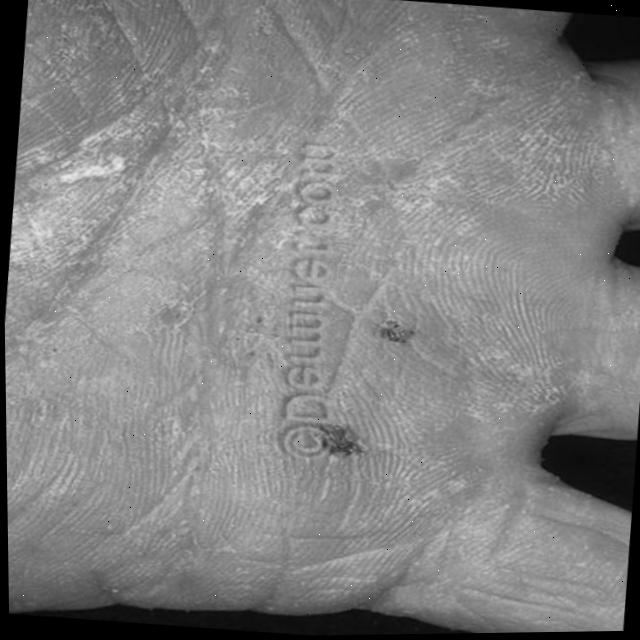Eczema: (0, 0, 627, 600)
